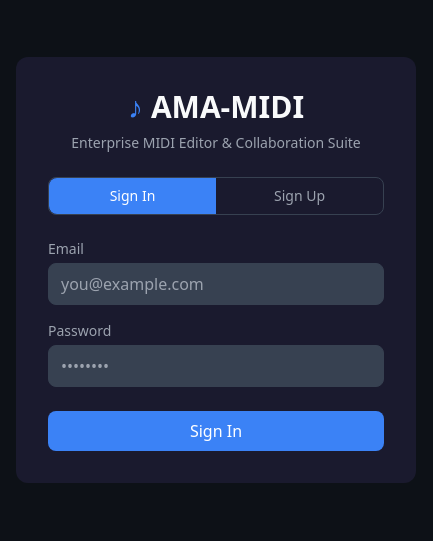
Test case: AuthPage › switches to sign-up form showing name field
The width and height of the screenshot is (433, 541).
Click the button "Sign Up".
click(300, 196)  # box top-left (216, 178), bottom-right (383, 214)
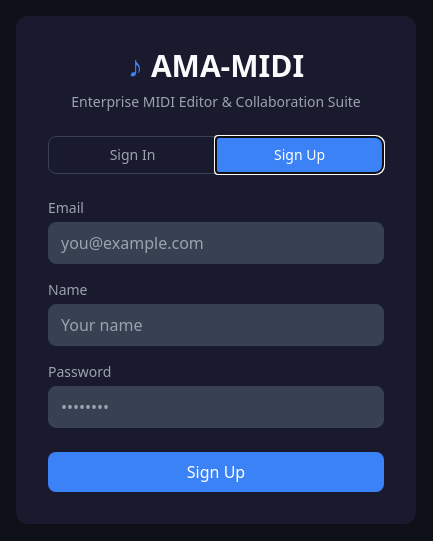
Result: the field labelled "Name" is shown at top-left (48, 304), bottom-right (384, 346)
